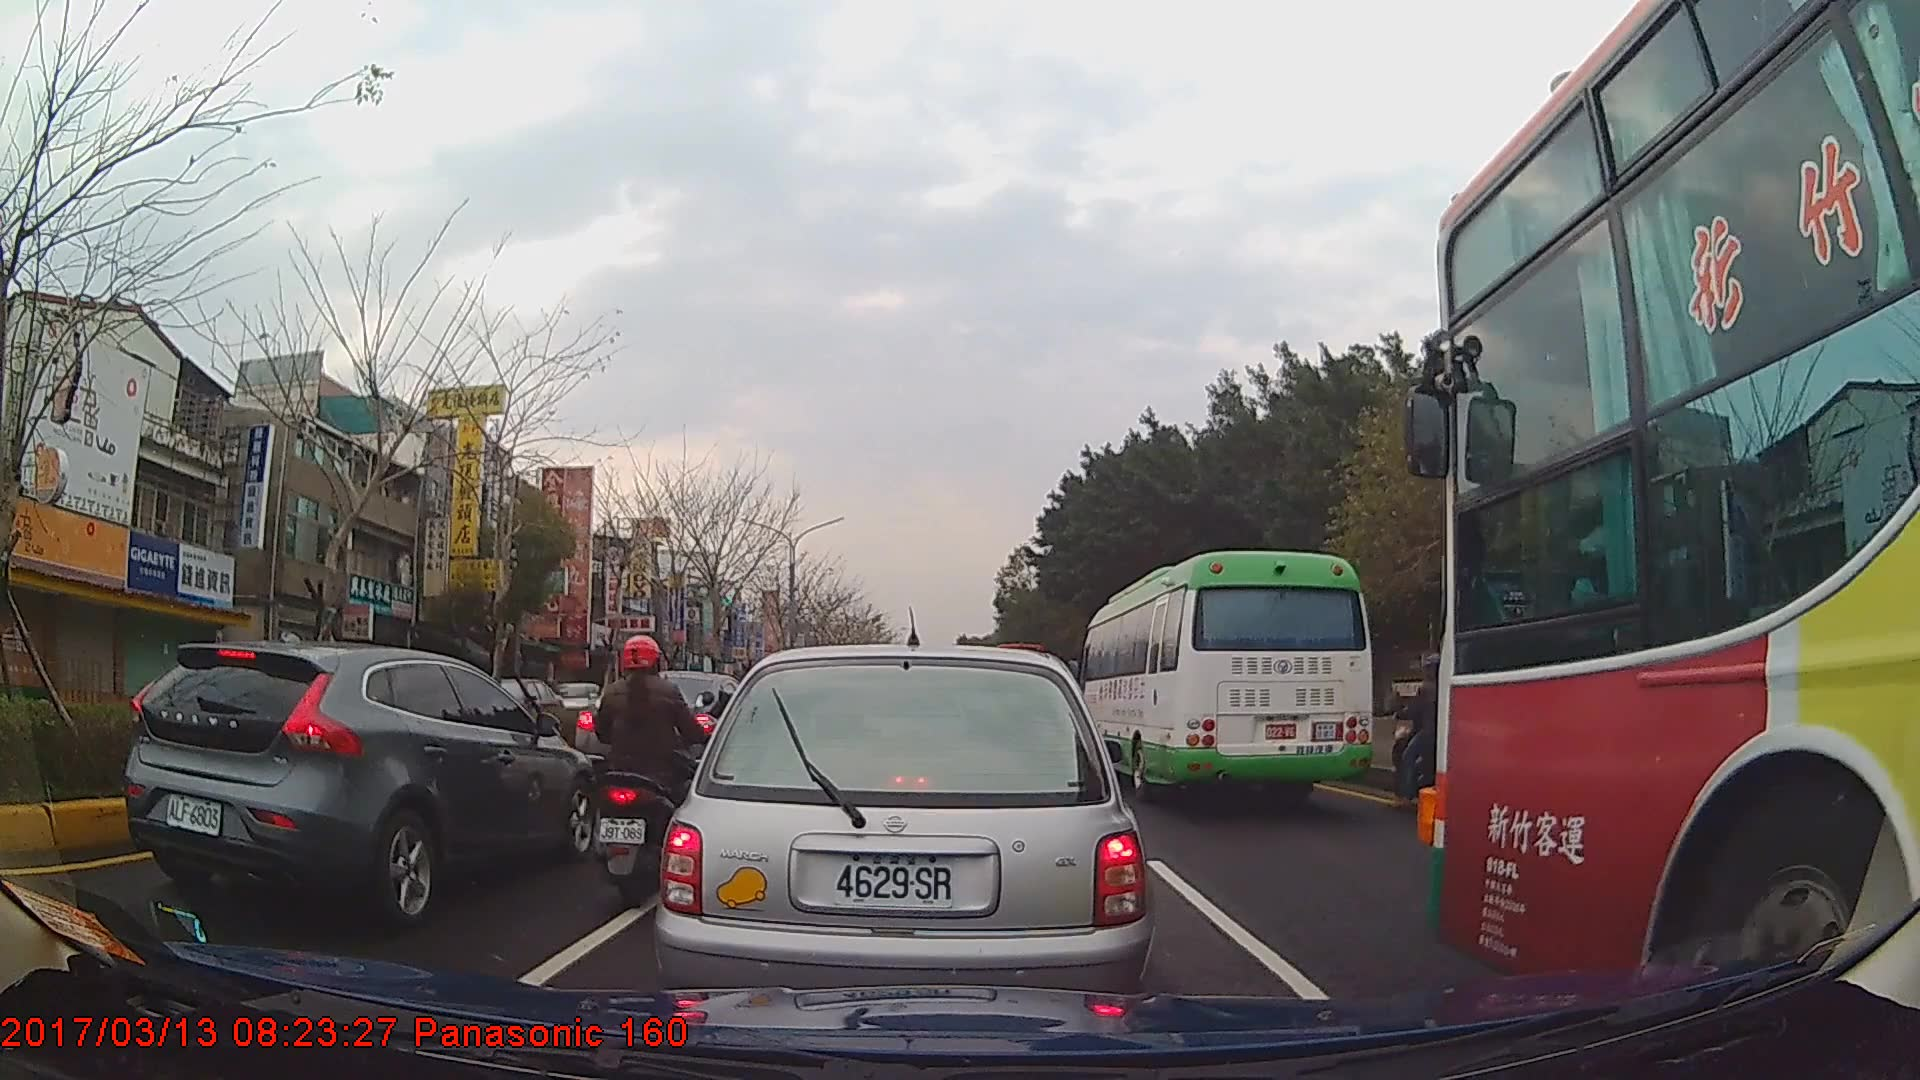rider: (591, 631, 715, 897), (1392, 654, 1480, 808)
vehicle: (1428, 0, 1920, 1027), (658, 642, 1155, 1043), (118, 642, 597, 923), (1076, 547, 1372, 804), (578, 668, 759, 786), (467, 677, 564, 732)
